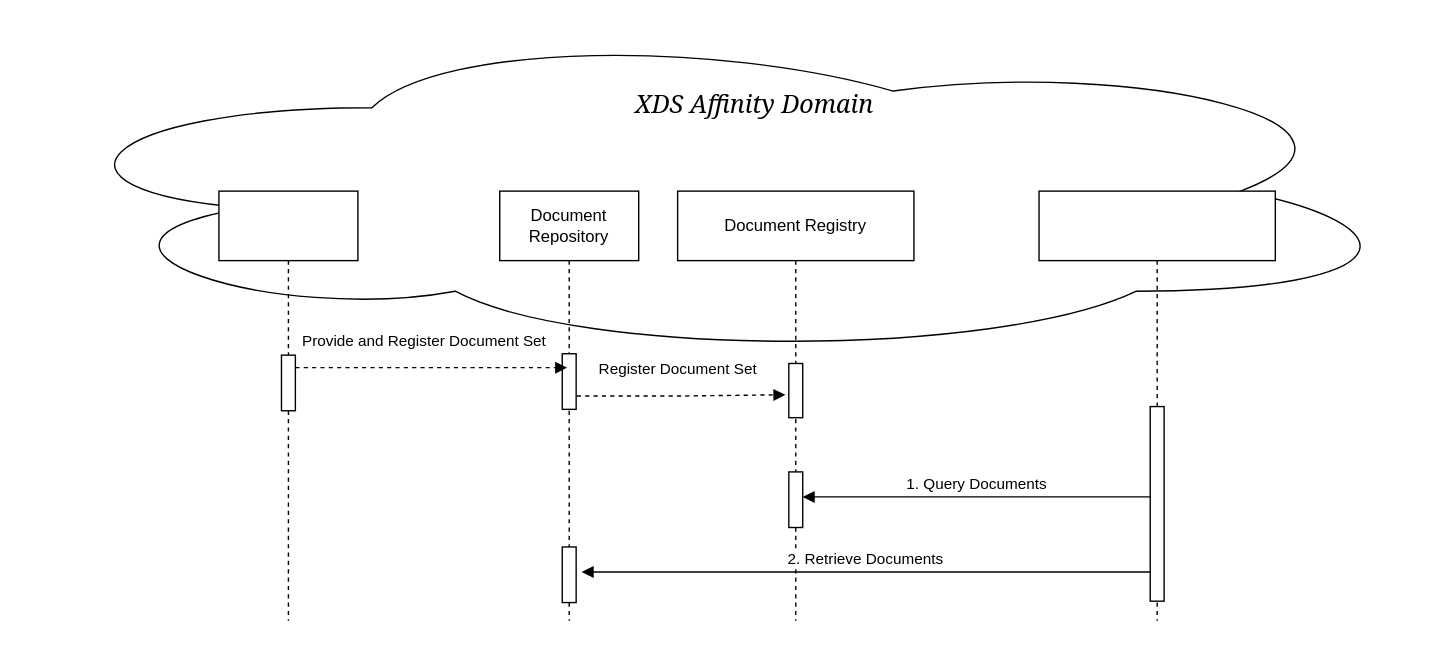
This 1439x645 diagram has some shape labels left out. Each missing label, with the box of its shape:
Document Consumer (e.g. Emergency Acute Care): (1038, 190, 1275, 621)
Document Source (e.g. PCP): (218, 190, 358, 621)
